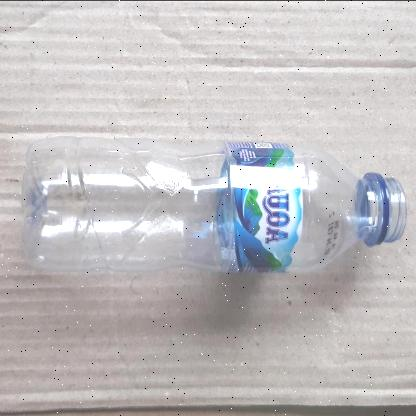Plastic Bottle: (23, 135, 407, 275)
